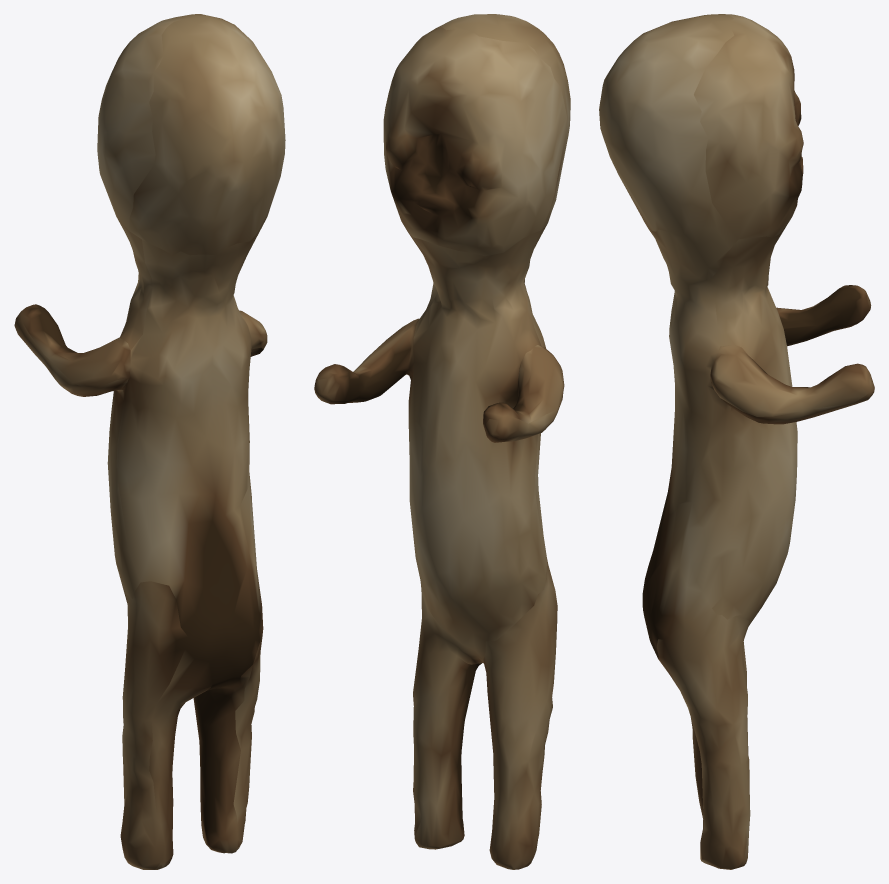
Rendered from scp-173.glb.
The picture shows the model from 3 angles, left to right: view 1: azimuth 30°, elevation 25°; view 2: azimuth 150°, elevation 25°; view 3: azimuth 270°, elevation 25°; orthographic projection.
Parts seen in each view (by area): view 1: body; view 2: body; view 3: body.
Part boxes in pixels (bbox=[...]): body: bbox=[14, 14, 285, 869]; body: bbox=[314, 14, 570, 869]; body: bbox=[599, 14, 874, 869].
Bounding box in the file's own units: 0.506 × 2.05 × 0.6207.
